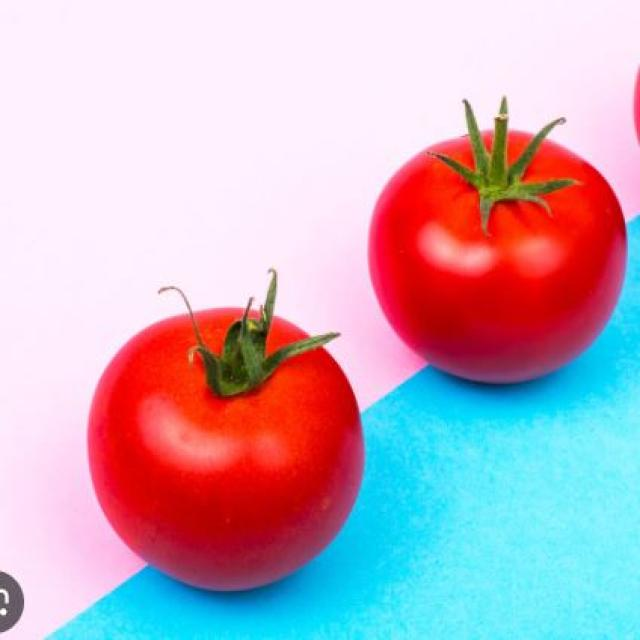Healthy: (86, 294, 383, 590), (366, 118, 640, 390)
